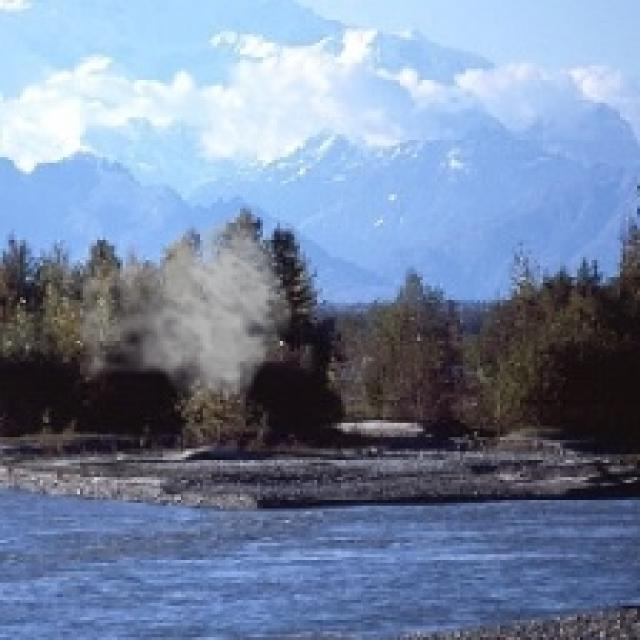Smoke: (59, 212, 294, 418)
